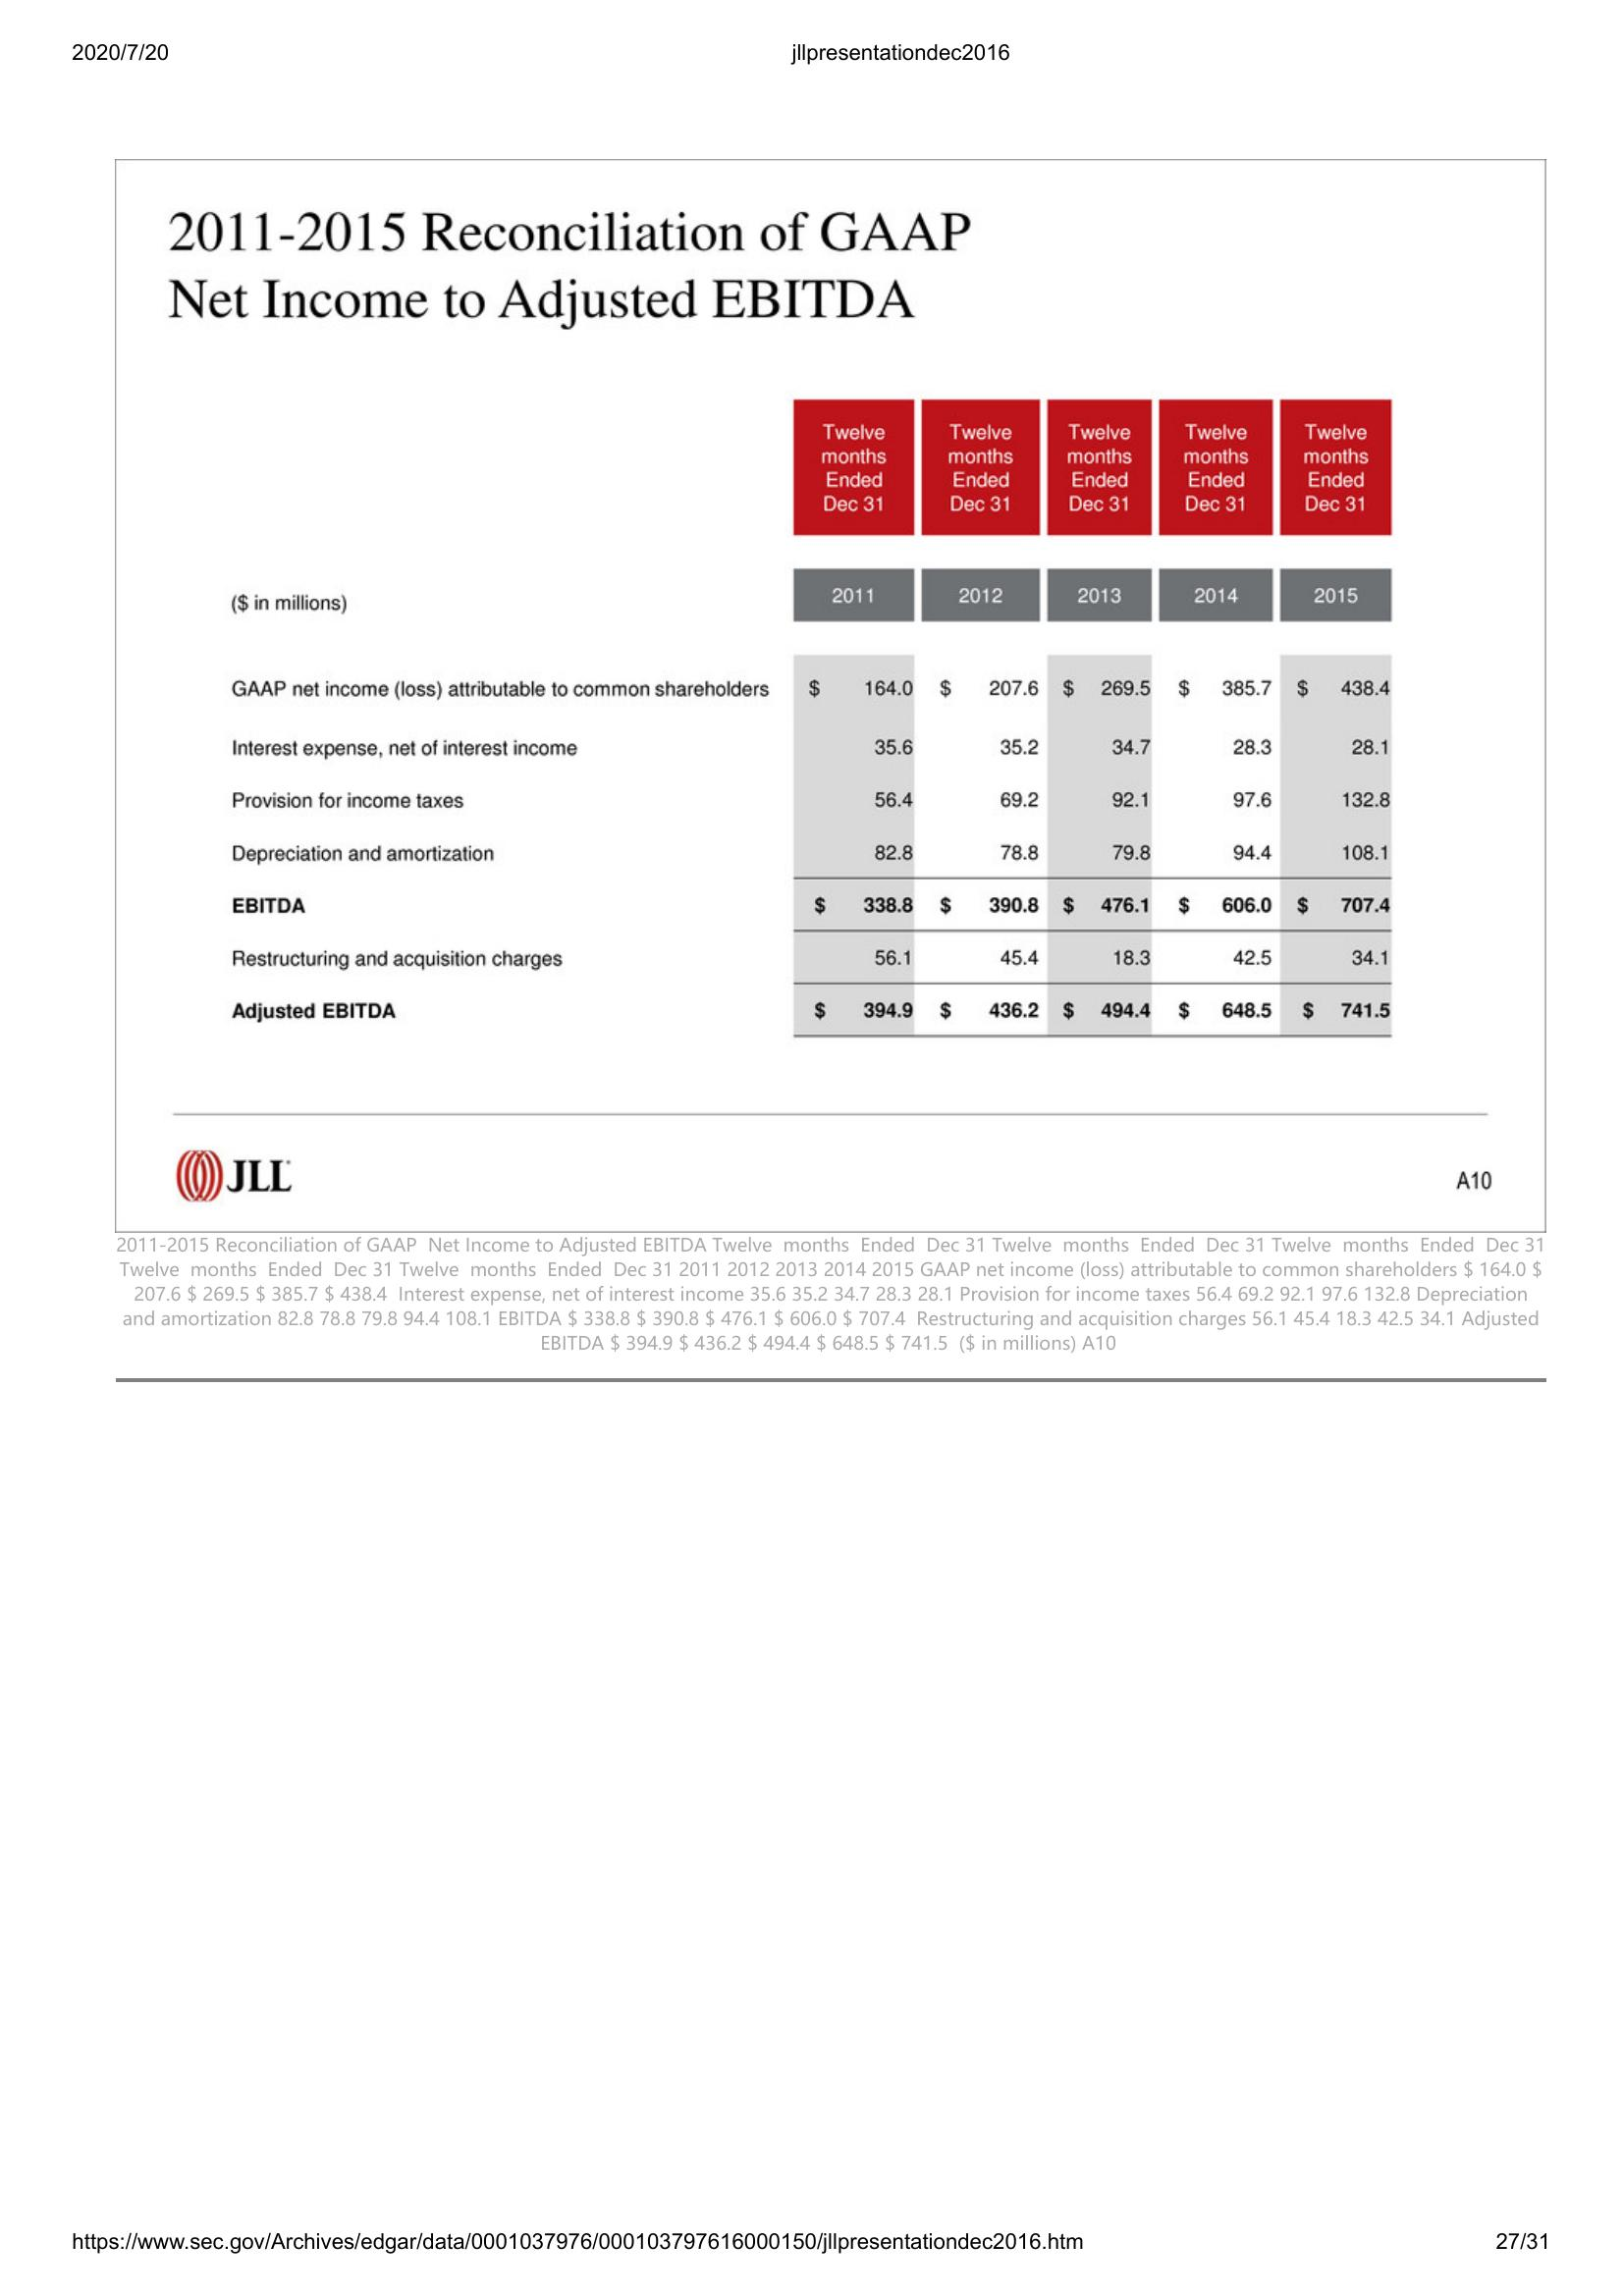table: (230, 393, 1391, 1043)
